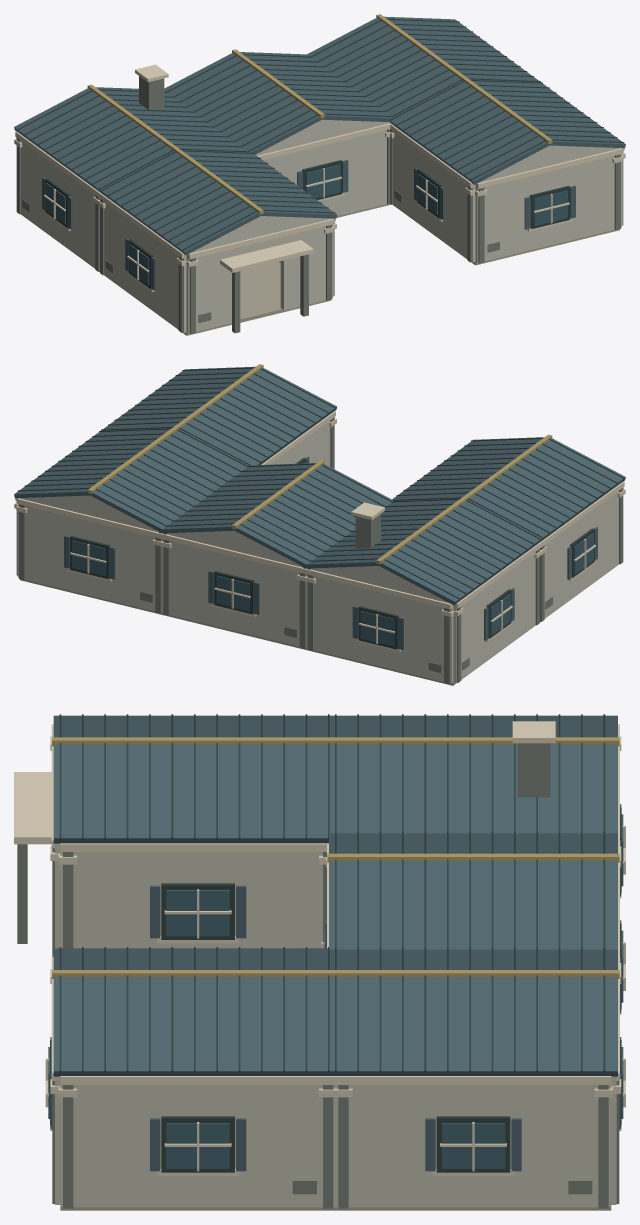
The model's file is FSA_ENV_Protected_03_CourtyardWings.glb.
The picture shows the model from 3 angles, top to bottom: view 1: azimuth 30°, elevation 25°; view 2: azimuth 150°, elevation 25°; view 3: azimuth 270°, elevation 25°; orthographic projection. The views are drawn at different scales.
Parts seen in each view (by area): view 1: PitchedRoof_363, PitchedRoof_481, PitchedRoof_41, PitchedRoof_148, PitchedRoof_252, PitchedRoof_377, PitchedRoof_495, PitchedRoof_162, PitchedRoof_266, Wall_430, Wall_431, Wall_112 (+40 smaller); view 2: PitchedRoof_41, PitchedRoof_481, PitchedRoof_363, PitchedRoof_252, PitchedRoof_148, PitchedRoof_266, PitchedRoof_162, PitchedRoof_495, PitchedRoof_377, Wall_7, PitchedRoof_55, Wall_132 (+41 smaller); view 3: PitchedRoof_266, PitchedRoof_377, PitchedRoof_495, PitchedRoof_162, PitchedRoof_55, Wall_219, Wall_448, Wall_218, Wall_447, Wall_330, Wall_329, PitchedRoof_363 (+36 smaller).
Part boxes in pixels (x1,y1,x2,y2): PitchedRoof_363: (98,152,260,255); PitchedRoof_481: (390,82,549,184); PitchedRoof_41: (14,88,174,192); PitchedRoof_148: (164,53,322,154); PitchedRoof_252: (307,18,462,117); PitchedRoof_377: (179,148,336,218); PitchedRoof_495: (467,77,625,148); PitchedRoof_162: (240,52,392,122); PitchedRoof_266: (384,16,540,82); Wall_430: (475,176,532,263); Wall_431: (566,154,621,241); Wall_112: (338,130,386,215); PitchedRoof_41: (379,502,542,605); PitchedRoof_481: (176,368,337,467); PitchedRoof_363: (464,438,625,541); PitchedRoof_252: (90,429,248,534); PitchedRoof_148: (234,464,393,569); PitchedRoof_266: (14,429,167,498); PitchedRoof_162: (159,463,316,533); PitchedRoof_495: (98,366,255,433); PitchedRoof_377: (392,437,543,499); Wall_7: (396,596,453,683); PitchedRoof_55: (303,498,460,568); Wall_132: (162,539,217,626); PitchedRoof_266: (329,977,617,1076); PitchedRoof_377: (53,744,342,843); PitchedRoof_495: (53,977,342,1076); PitchedRoof_162: (329,860,617,949); PitchedRoof_55: (329,744,617,833); Wall_219: (336,1085,440,1207); Wall_448: (60,1085,165,1207); Wall_218: (506,1085,611,1207); Wall_447: (231,1085,335,1207); Wall_330: (60,852,165,948); Wall_329: (231,852,322,948); PitchedRoof_363: (53,715,342,737).
Size of the model in its own units: 24.86 by 7.03 by 17.78.
